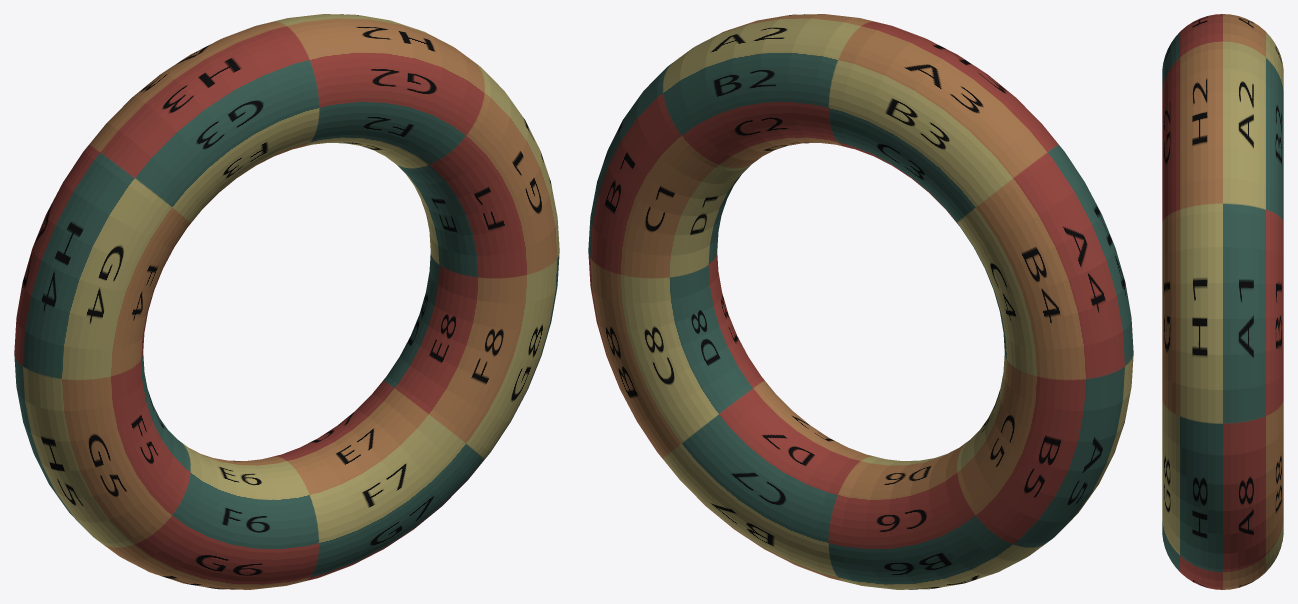
The model's file is texture_torus_R26_r20.glb.
3 renders of one model, left to right at view 1: azimuth 30°, elevation 25°; view 2: azimuth 150°, elevation 25°; view 3: azimuth 270°, elevation 25°, orthographic. The views are drawn at different scales.
Visible parts, largest first — view 1: world; view 2: world; view 3: world.
Boxes of the visible parts, x1=… form: world: x1=14, y1=14, x2=559, y2=589; world: x1=588, y1=14, x2=1133, y2=589; world: x1=1162, y1=14, x2=1283, y2=589.
Size of the model in its own units: 34.67 by 34.6 by 7.32.
Materials: 1 (1 with a texture image).
